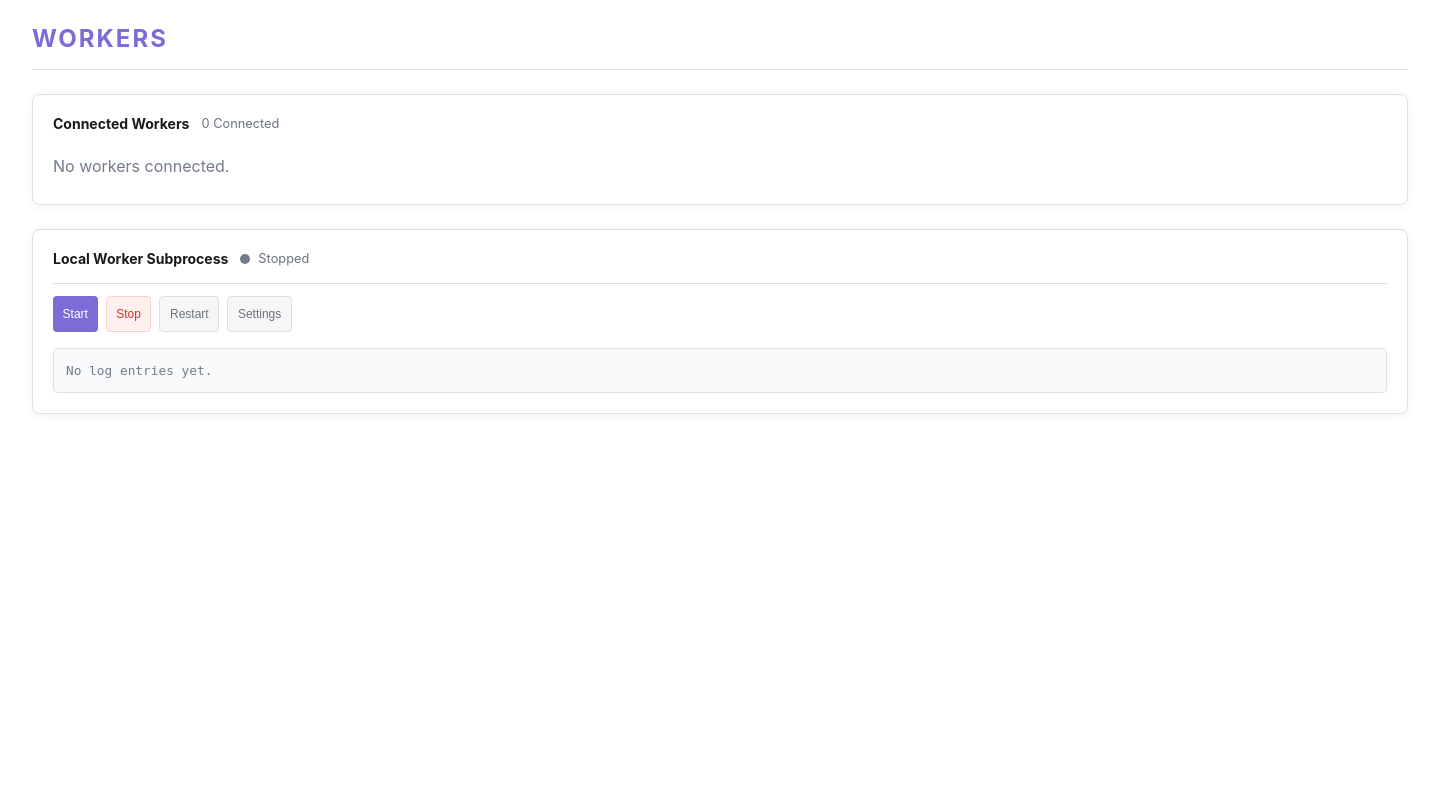
Test: WorkersPage › should render settings panel with current values when settings opened
Click the button "Settings". click: click(260, 314)
box: x1=227 y1=296 x2=292 y2=332
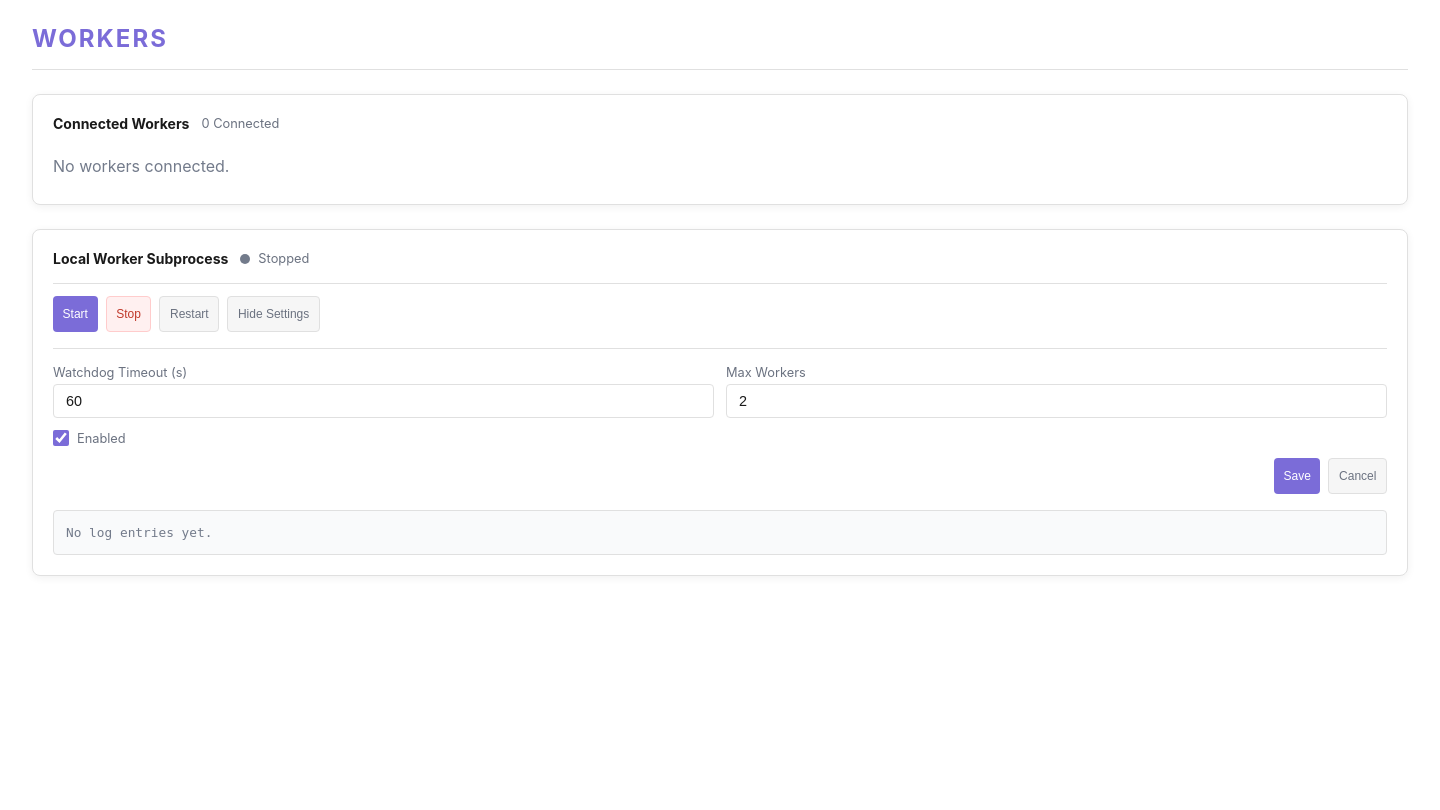
expect the number field showing "60" is shown: met, box x1=53 y1=384 x2=714 y2=418
expect the number field showing "2" is shown: met, box x1=726 y1=384 x2=1387 y2=418
